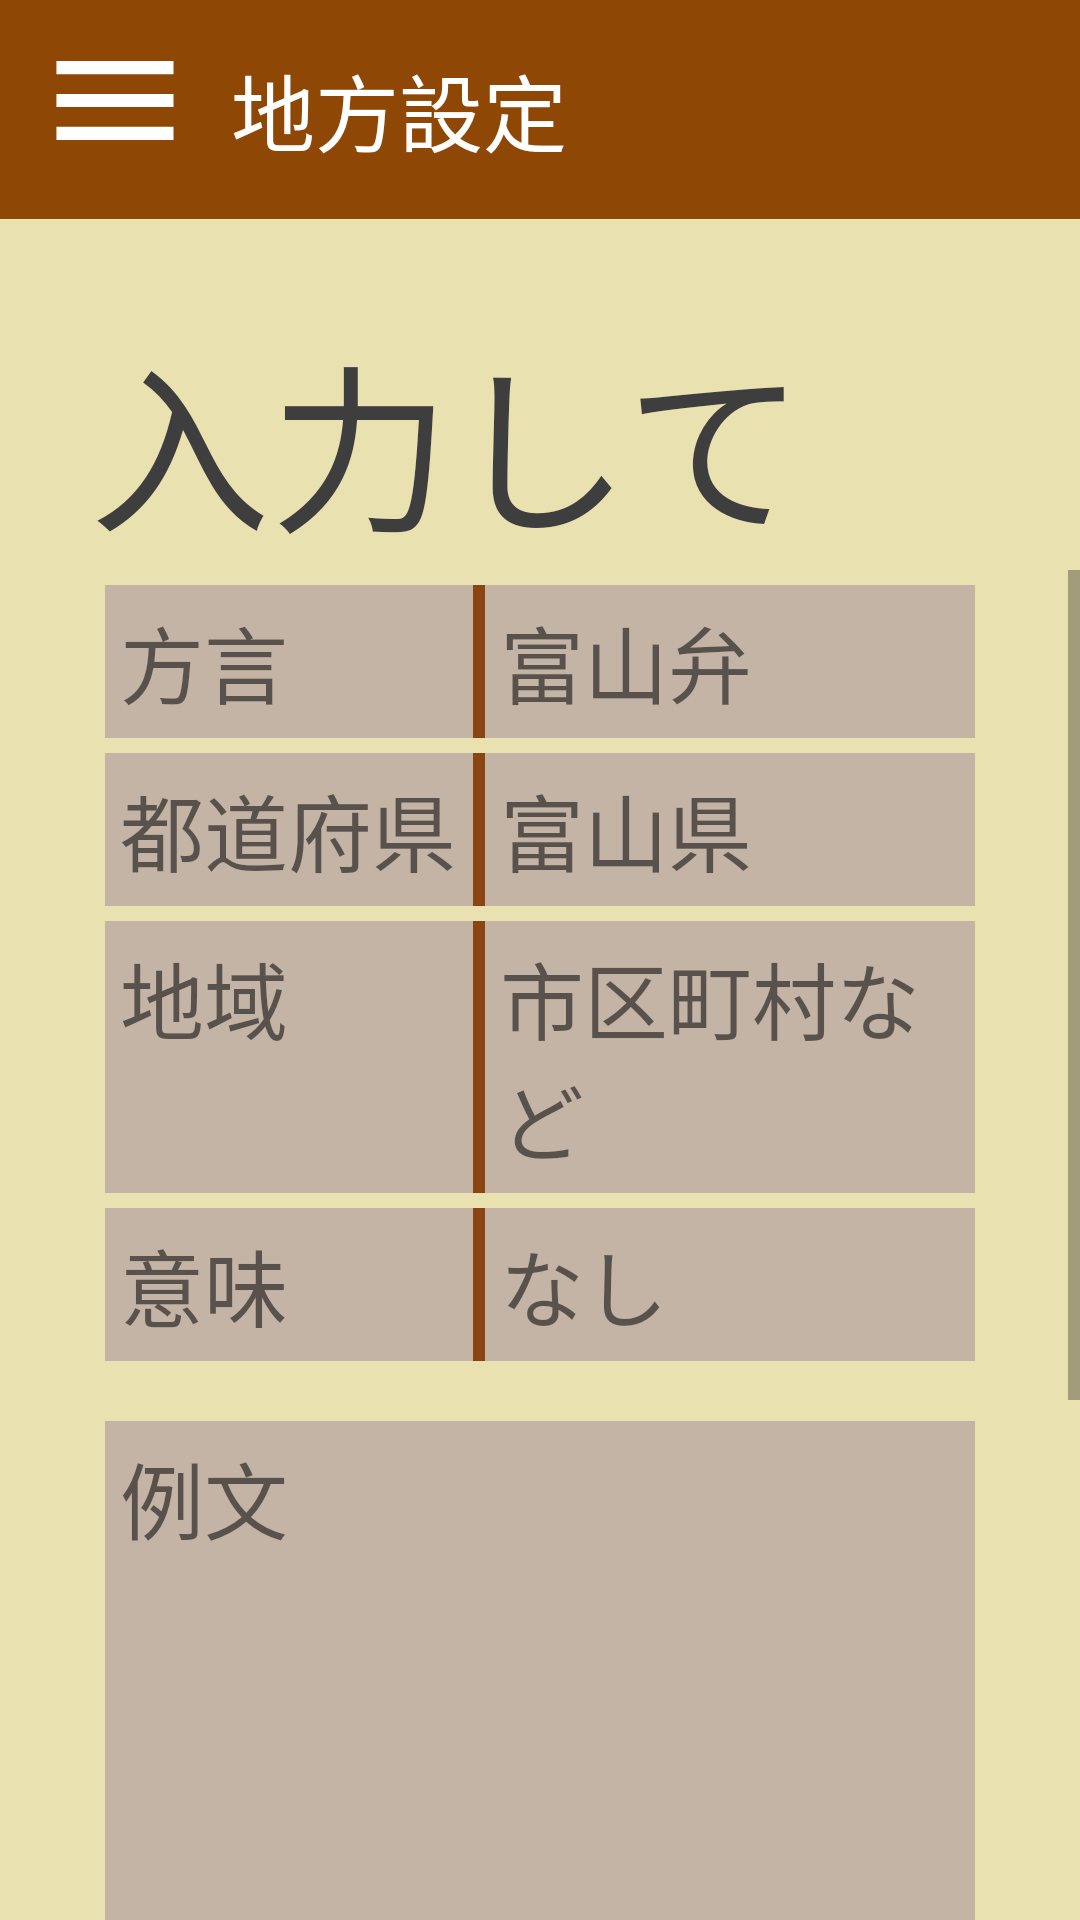

Icon bounding boxes for this 1080px×1920px phone screenshot, format (x1, y1, x2, y2):
menu: (56, 61, 174, 140)
